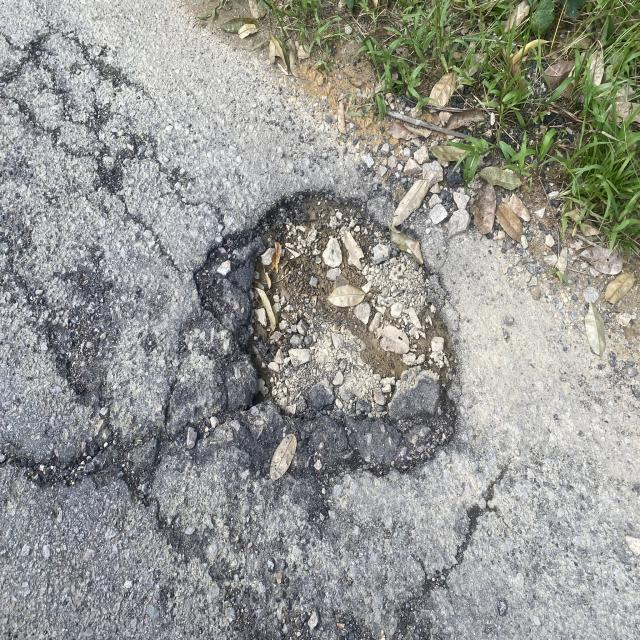pothole: (176, 166, 507, 532)
